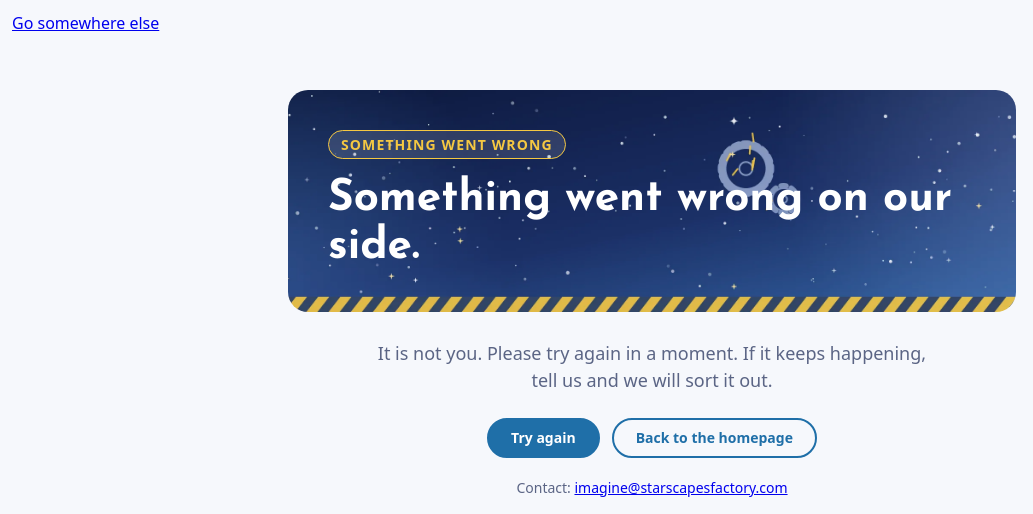
Test: the error catcher › lets go as soon as the visitor goes to another page, so one broken page never spoils the rest
Step 1. Click the link "Go somewhere else" → (86, 23), box [12, 12, 159, 34]
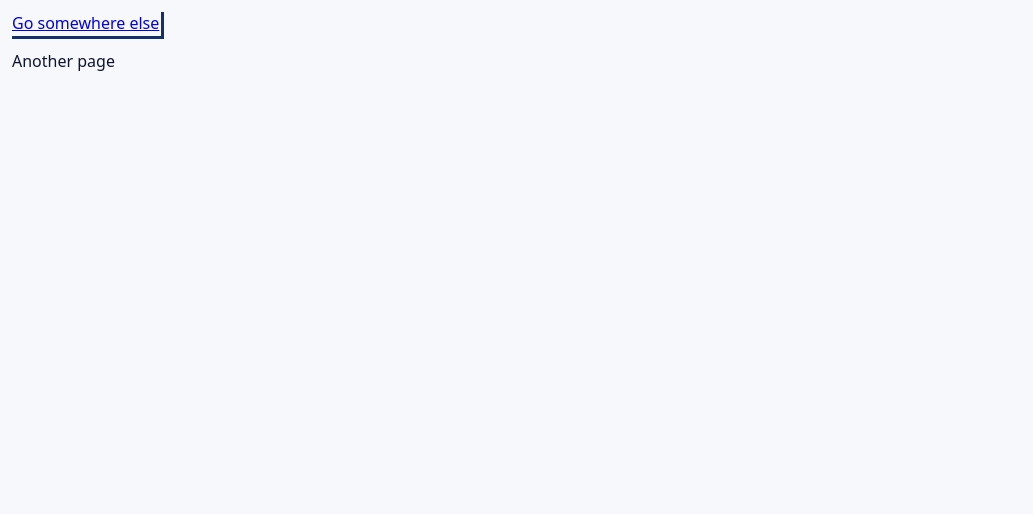
Check: the text "Another page" is shown, box [12, 50, 115, 72]
